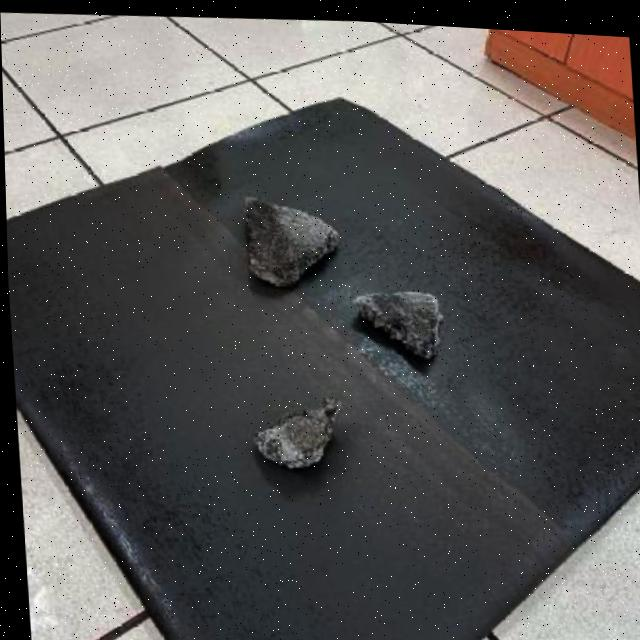Road Debris: (239, 195, 301, 278), (274, 388, 350, 443), (360, 291, 423, 354)
